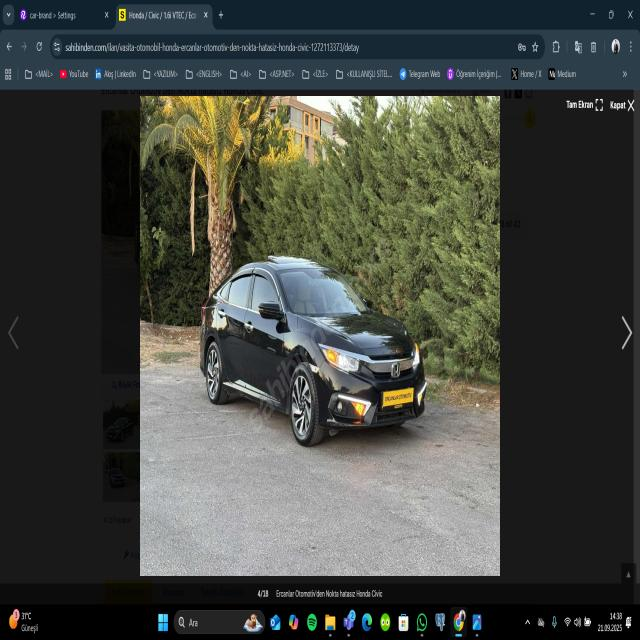honda: (384, 356, 408, 381)
